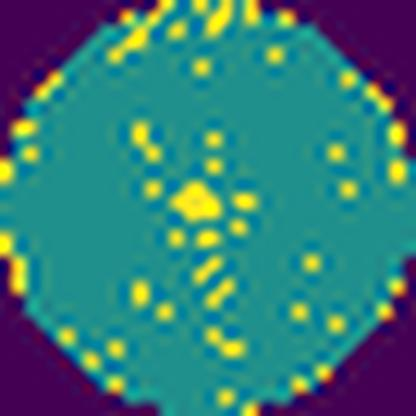Center: (163, 174, 230, 226)
